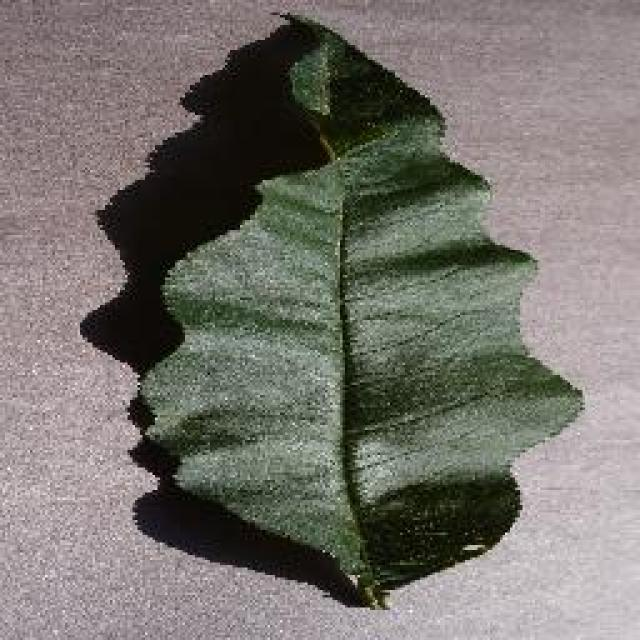Pea_healthy: (160, 49, 540, 546)
